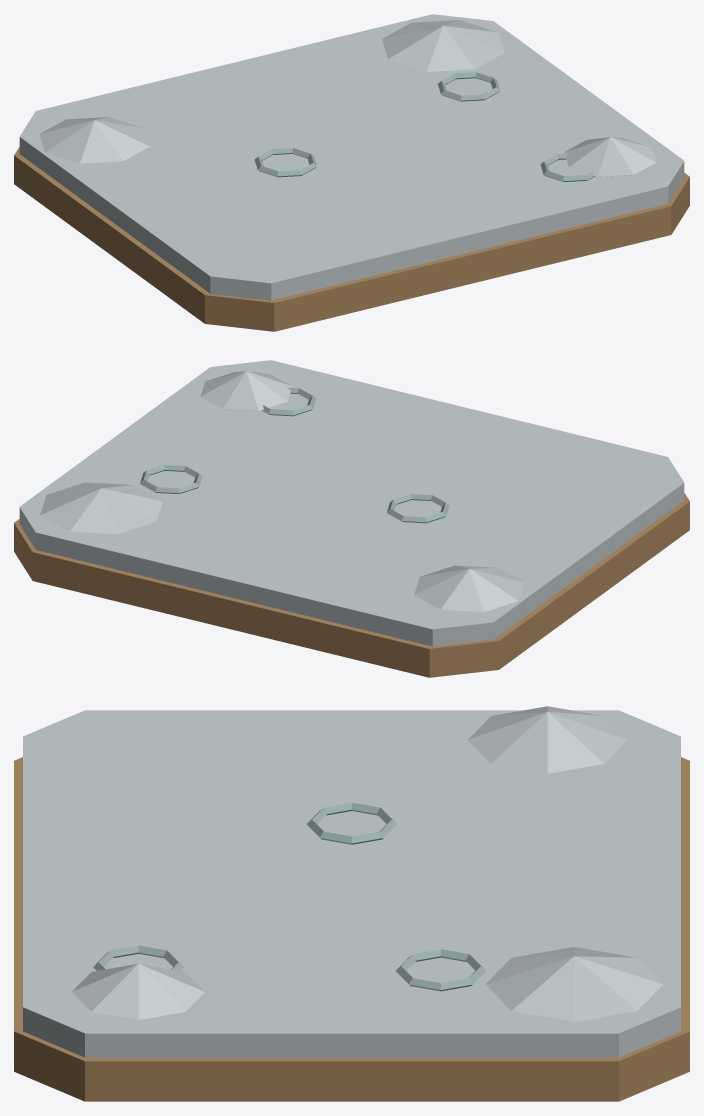
Rendered from snow_base.glb.
3 renders of one model, top to bottom at view 1: azimuth 30°, elevation 25°; view 2: azimuth 150°, elevation 25°; view 3: azimuth 270°, elevation 25°, orthographic. The views are drawn at different scales.
Visible parts, largest first — view 1: geometry; view 2: geometry; view 3: geometry.
Boxes of the visible parts, x1=… form: geometry: x1=14, y1=14, x2=689, y2=331; geometry: x1=14, y1=360, x2=689, y2=677; geometry: x1=14, y1=706, x2=689, y2=1101.
Size of the model in its own units: 0.88 by 0.12 by 0.76.
